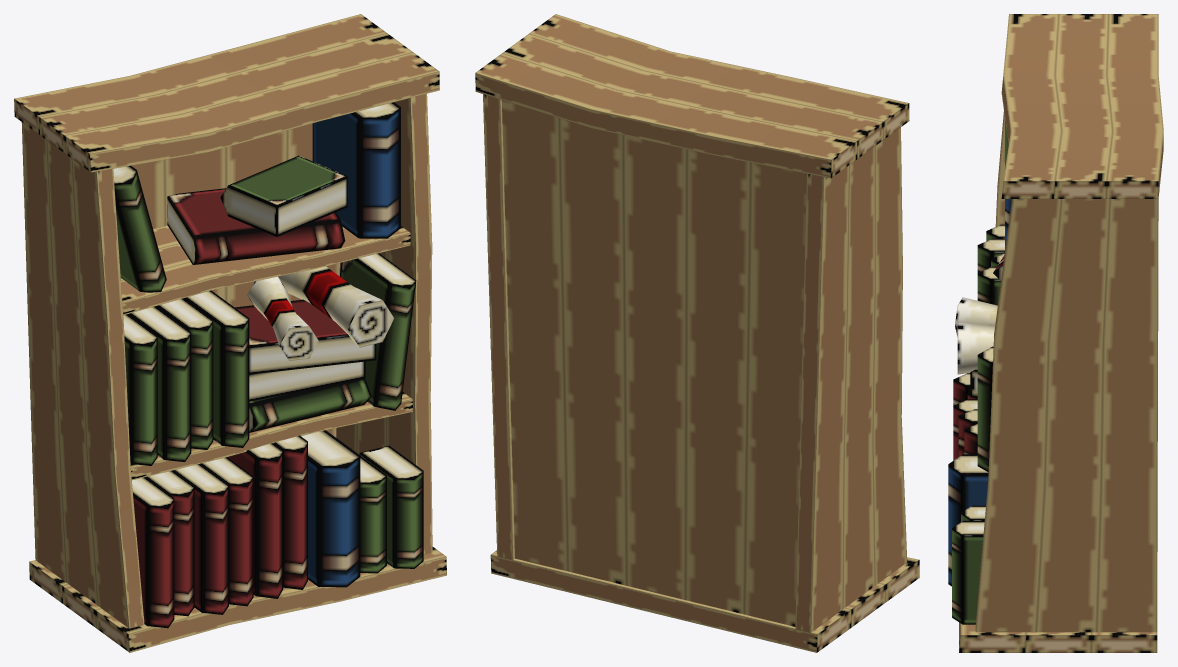
File: deco_cathedral_bookCase_B.FBX
3 views of the same model, side by side, from view 1: azimuth 30°, elevation 25°; view 2: azimuth 150°, elevation 25°; view 3: azimuth 270°, elevation 25° (orthographic). The views are drawn at different scales.
Parts seen in each view (by area): view 1: deco_cathedral_bookCase_B; view 2: deco_cathedral_bookCase_B; view 3: deco_cathedral_bookCase_B.
Part boxes in pixels (x1=…): deco_cathedral_bookCase_B: x1=14, y1=14, x2=446, y2=652; deco_cathedral_bookCase_B: x1=475, y1=14, x2=919, y2=652; deco_cathedral_bookCase_B: x1=948, y1=14, x2=1163, y2=652.
Bounding box in the file's own units: 3 × 4 × 1.63.
1 material, 1 textured.
